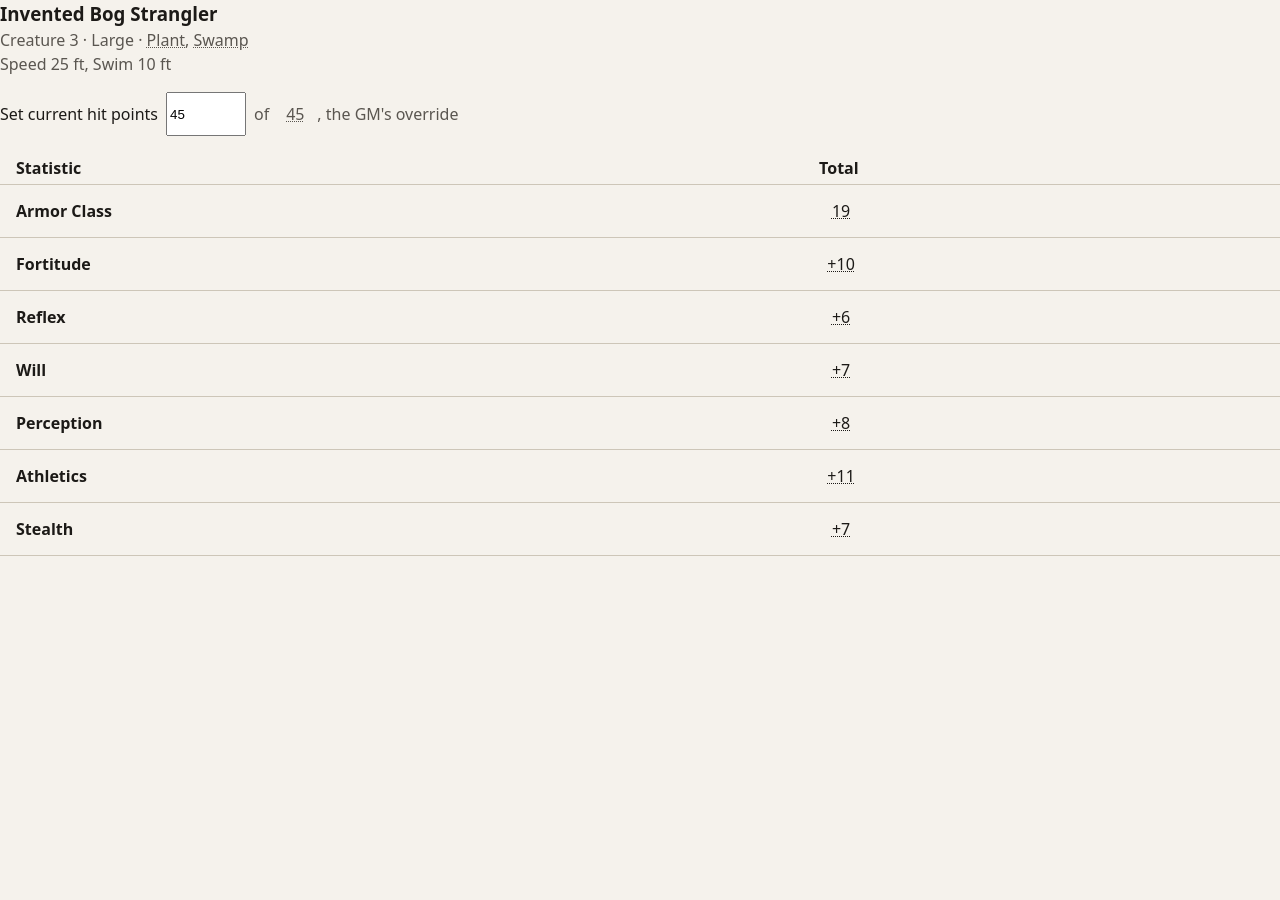
NpcSheet › opens a statistic’s own breakdown, naming the stat block as its source
Click the button with class "stat-trigger" showing "+11": point(841, 476) [819, 454, 863, 498]
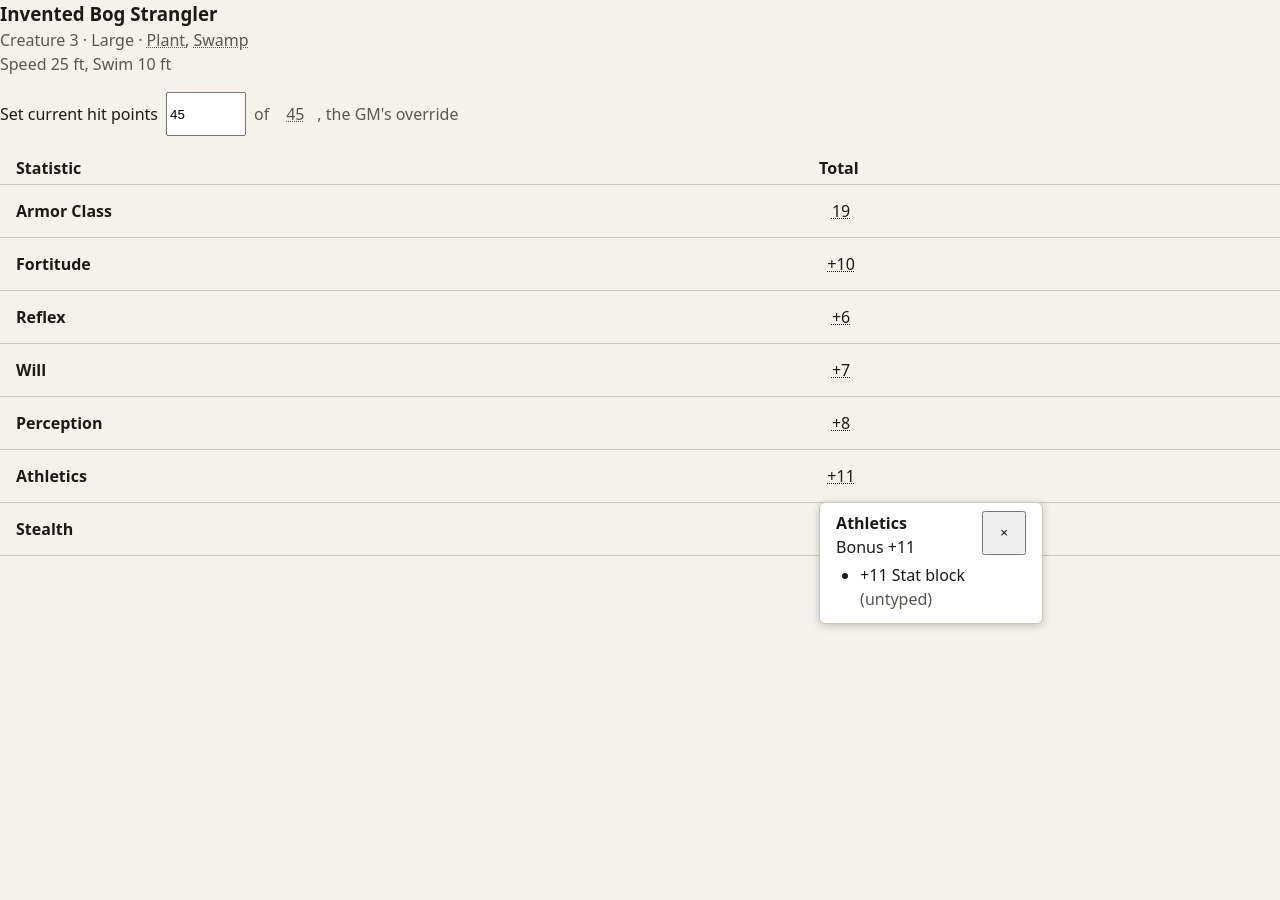
Check: the heading "Athletics" is shown, box [836, 512, 907, 534]
Check: the dialog with class "stat-popover" shows "Bonus +11", box [836, 536, 915, 558]
Check: the dialog with class "stat-popover" shows "Stat block", box [860, 564, 965, 586]
